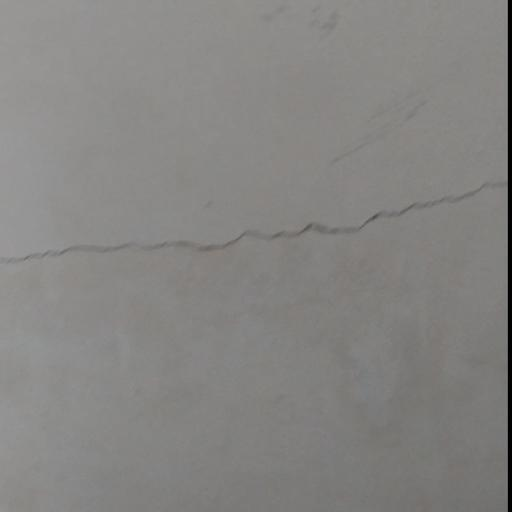minor_crack: (0, 173, 507, 276)
